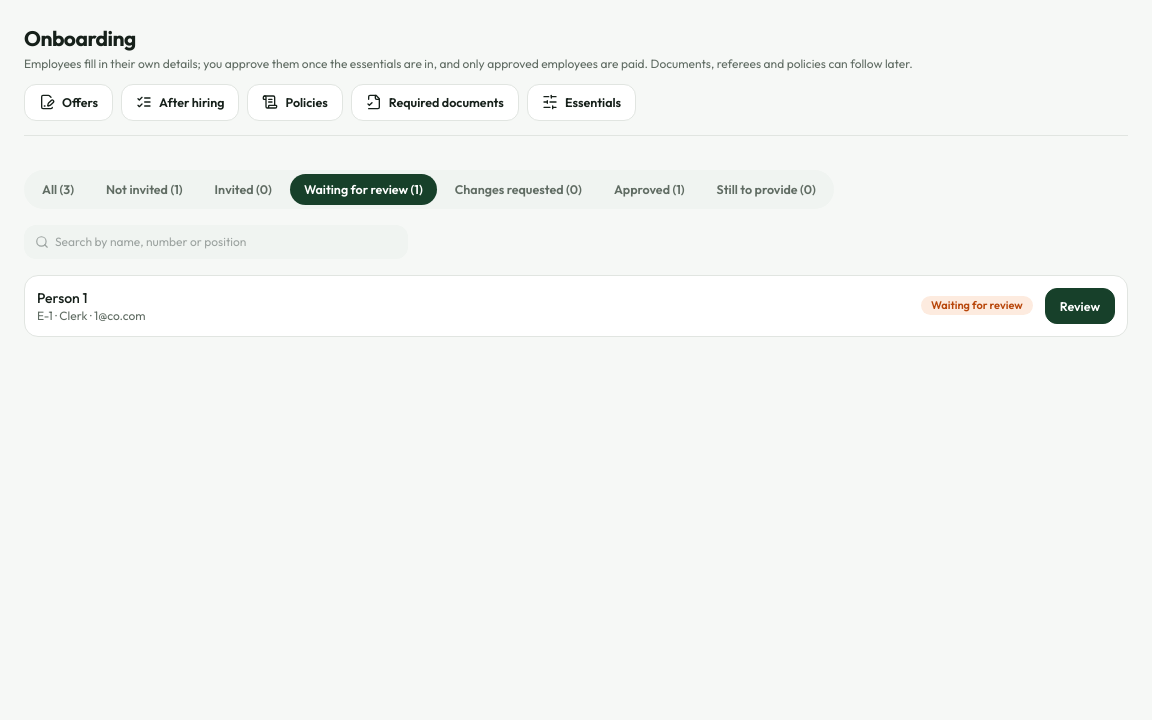
Test case: OnboardingReview › can’t approve while an essential is missing
Click the button "Review": (1080, 306) 1045,288 -> 1115,324
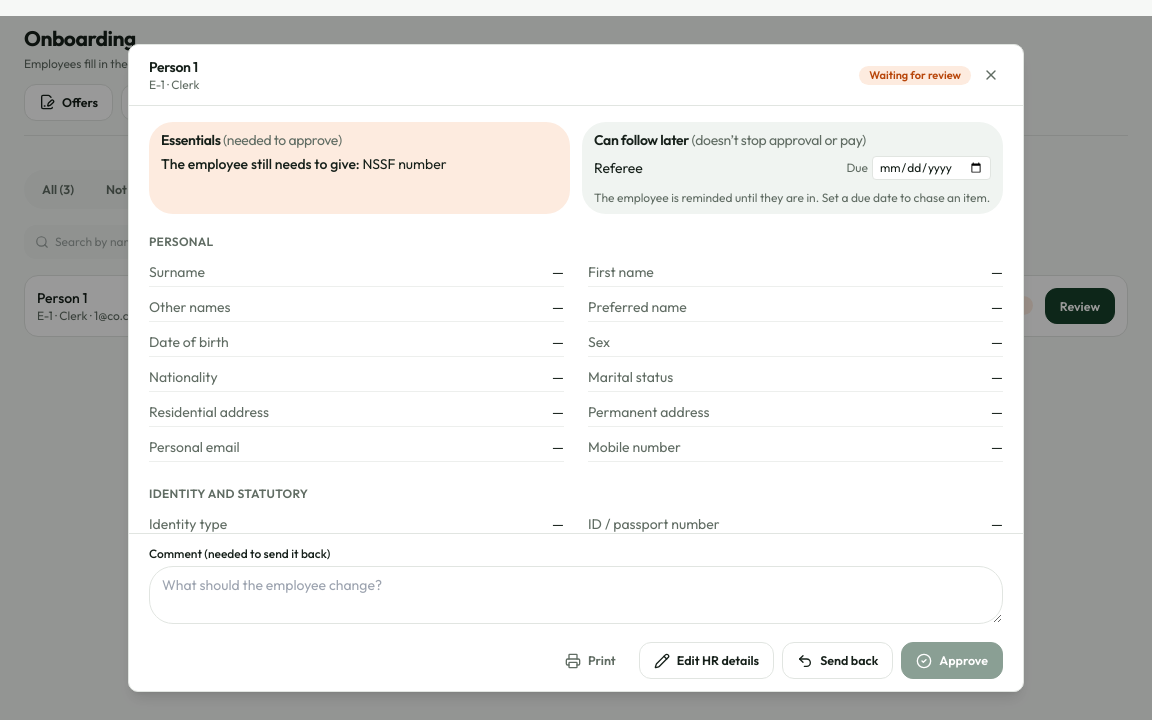
Result: the text "NSSF number" is shown at 362,155 -> 447,173
Result: the button "Approve" is disabled at 901,642 -> 1003,679
